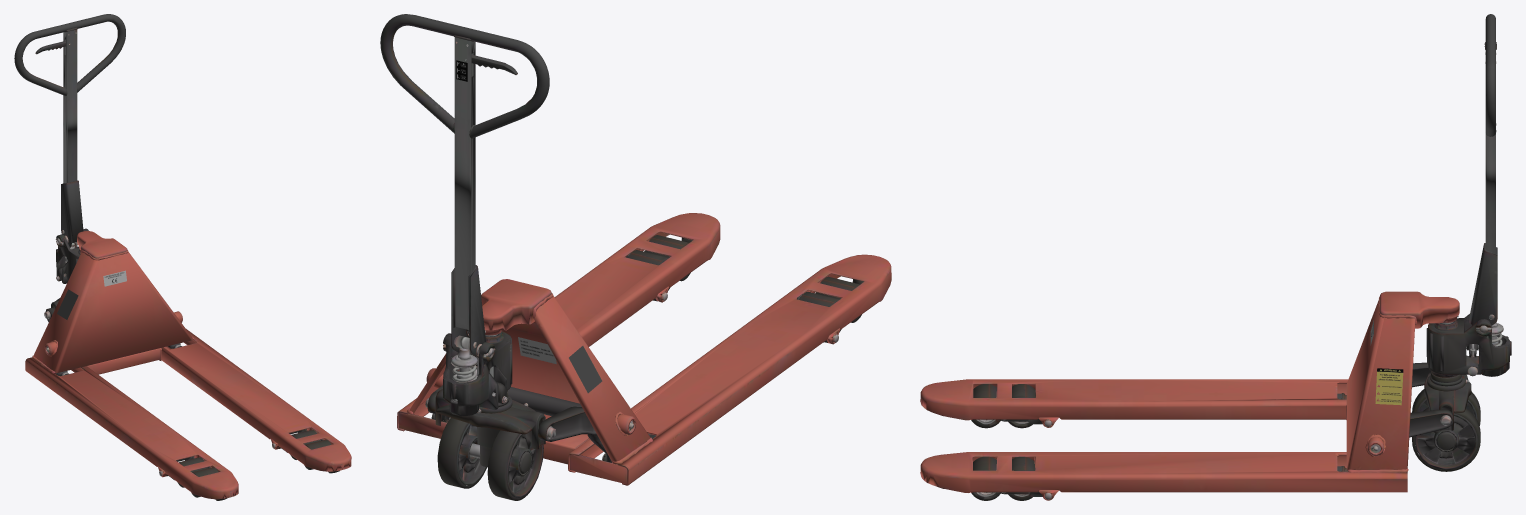
File: pallet_jack.glb
3 renders of one model, left to right at view 1: azimuth 30°, elevation 25°; view 2: azimuth 150°, elevation 25°; view 3: azimuth 270°, elevation 25°, orthographic. The views are drawn at different scales.
Parts seen in each view (by area): view 1: palletJack_lowProfile_a01; view 2: palletJack_lowProfile_a01; view 3: palletJack_lowProfile_a01.
Boxes of the visible parts, box(x1,y1,x2,y2) form: palletJack_lowProfile_a01: box(14, 14, 351, 500); palletJack_lowProfile_a01: box(380, 14, 891, 500); palletJack_lowProfile_a01: box(920, 14, 1511, 500).
Size of the model in its own units: 0.6532 by 1.27 by 1.63.
Materials: 2 (2 with a texture image).
